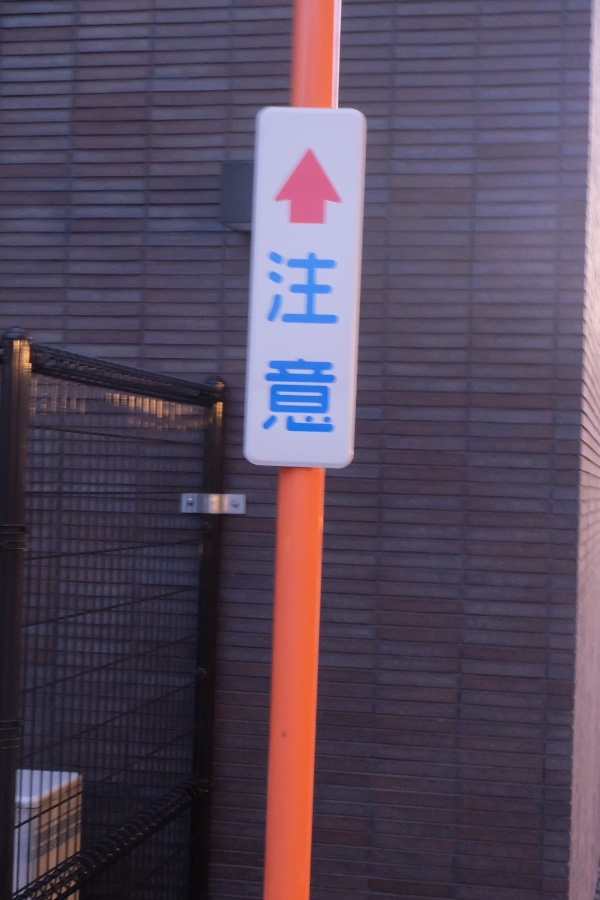text: (273, 251, 288, 436), (289, 251, 304, 436), (305, 251, 320, 436), (321, 251, 336, 436), (337, 251, 343, 436), (268, 251, 272, 436)
